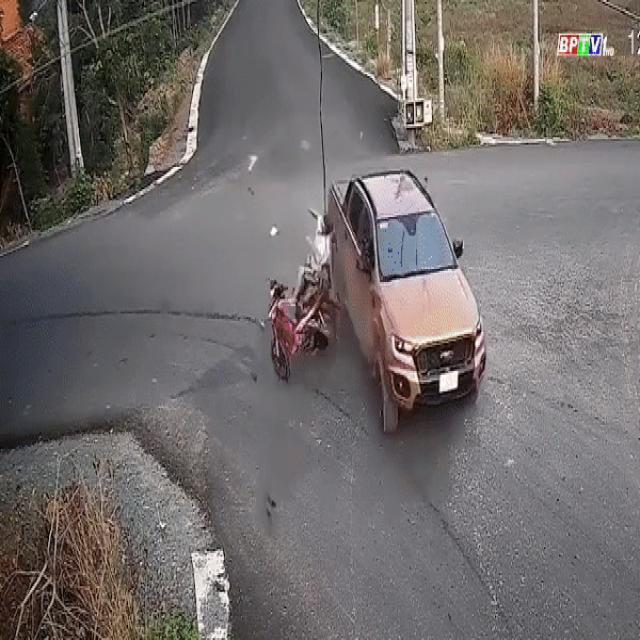multiple_accident: (261, 162, 493, 455)
